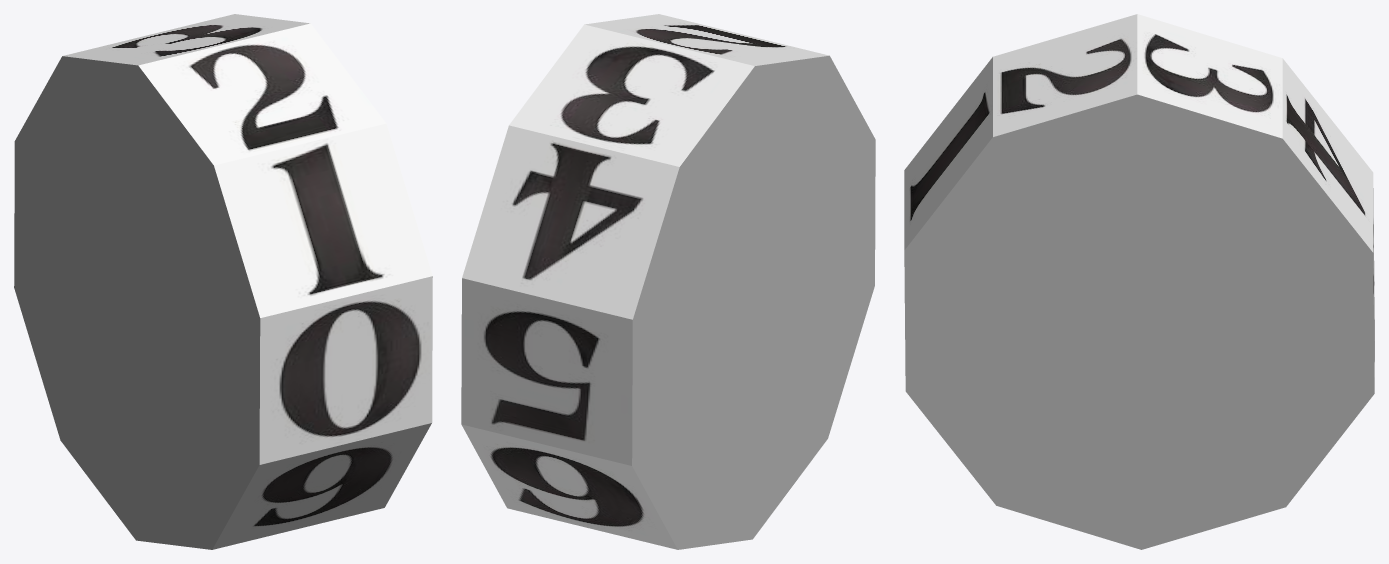
The model's file is dial.obj.
The picture shows the model from 3 angles, left to right: view 1: azimuth 30°, elevation 25°; view 2: azimuth 150°, elevation 25°; view 3: azimuth 270°, elevation 25°; orthographic projection. The views are drawn at different scales.
Visible parts, largest first — view 1: Cylinder.003_Cylinder.007; view 2: Cylinder.003_Cylinder.007; view 3: Cylinder.003_Cylinder.007.
Boxes of the visible parts, box(x1,y1,x2,y2) form: Cylinder.003_Cylinder.007: box(14, 14, 432, 549); Cylinder.003_Cylinder.007: box(461, 14, 875, 549); Cylinder.003_Cylinder.007: box(904, 14, 1374, 549).
Bounding box in the file's own units: 0.3879 × 1.02 × 0.958.
2 materials, 1 textured.
